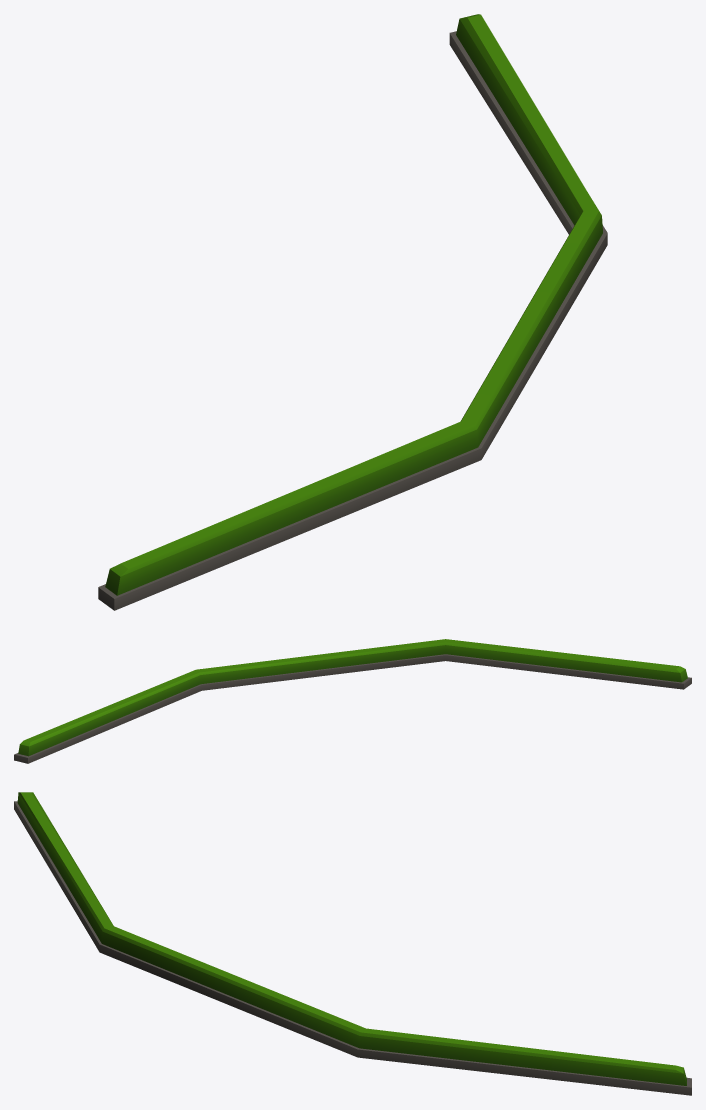
Rendered from Env_Block_CurveA.fbx.
3 renders of one model, top to bottom at view 1: azimuth 30°, elevation 25°; view 2: azimuth 150°, elevation 25°; view 3: azimuth 270°, elevation 25°, orthographic. The views are drawn at different scales.
Parts seen in each view (by area): view 1: Env_Block_CurveA; view 2: Env_Block_CurveA; view 3: Env_Block_CurveA.
Boxes of the visible parts, x1,y1,x2,y2 form: Env_Block_CurveA: (98,14,607,610); Env_Block_CurveA: (14,639,691,763); Env_Block_CurveA: (14,792,691,1095).
Size of the model in its own units: 3050 by 114 by 3050.
